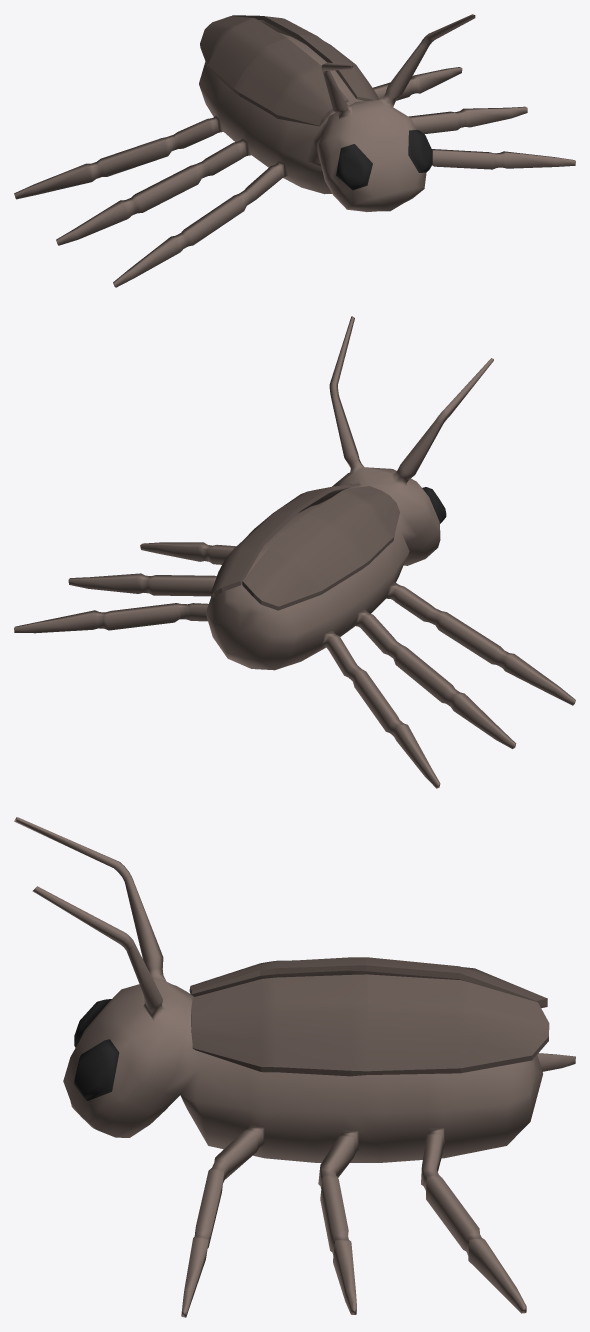
File: Scout_Model_Running_BetterMat_01_SC.fbx
The picture shows the model from 3 angles, top to bottom: view 1: azimuth 30°, elevation 25°; view 2: azimuth 150°, elevation 25°; view 3: azimuth 270°, elevation 25°; orthographic projection. The views are drawn at different scales.
Parts seen in each view (by area): view 1: scoutBetterMat_01; view 2: scoutBetterMat_01; view 3: scoutBetterMat_01.
Boxes of the visible parts, <box> form: scoutBetterMat_01: <box>14,14,575,287</box>; scoutBetterMat_01: <box>14,316,575,788</box>; scoutBetterMat_01: <box>14,817,575,1317</box>.
Bounding box in the file's own units: 1.33 × 0.7202 × 1.
